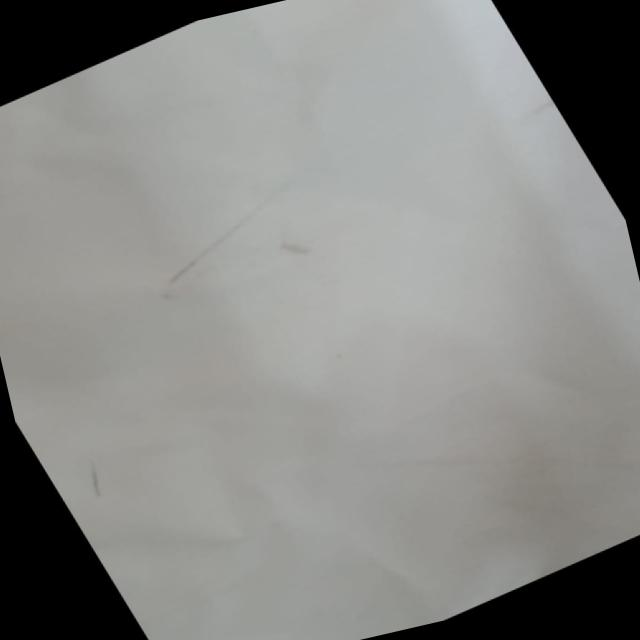stain: (118, 173, 342, 331), (64, 448, 124, 508)
